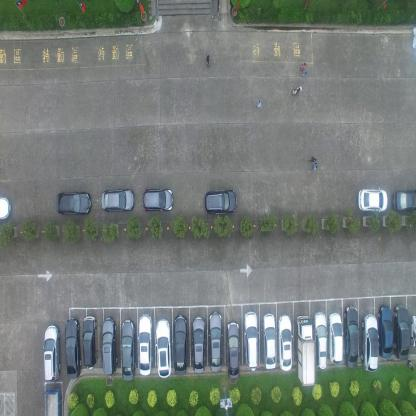car: (296, 313, 315, 388), (44, 323, 63, 383), (156, 318, 173, 378), (207, 309, 223, 372), (173, 313, 189, 376), (243, 310, 259, 371), (65, 318, 81, 379), (344, 303, 359, 367), (101, 315, 117, 375), (121, 318, 136, 381), (138, 313, 153, 376), (362, 312, 378, 370), (57, 194, 94, 219), (102, 190, 137, 216), (82, 314, 98, 370), (191, 315, 206, 374), (202, 189, 236, 215), (225, 321, 240, 379), (278, 314, 293, 370), (358, 185, 388, 213), (313, 310, 327, 370), (329, 310, 344, 365), (394, 302, 409, 357), (142, 189, 174, 214), (263, 313, 277, 369), (379, 302, 393, 357), (393, 186, 416, 215), (43, 386, 62, 416), (0, 194, 13, 223), (410, 313, 416, 348)
